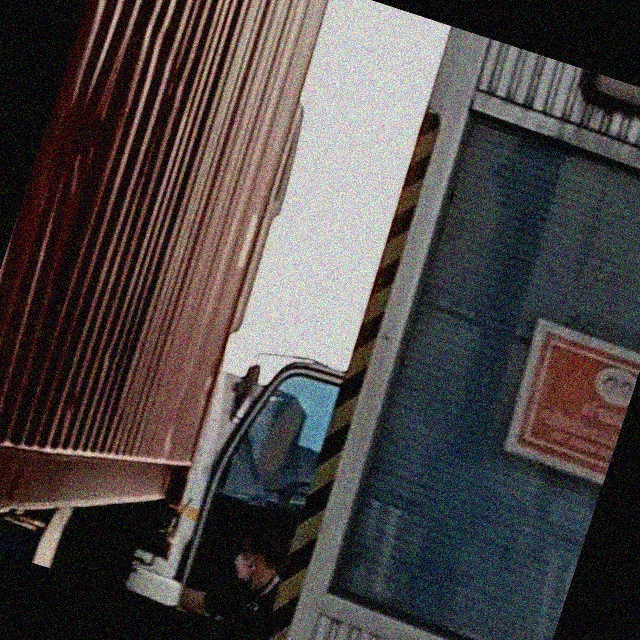Dent: (1, 63, 143, 294)
